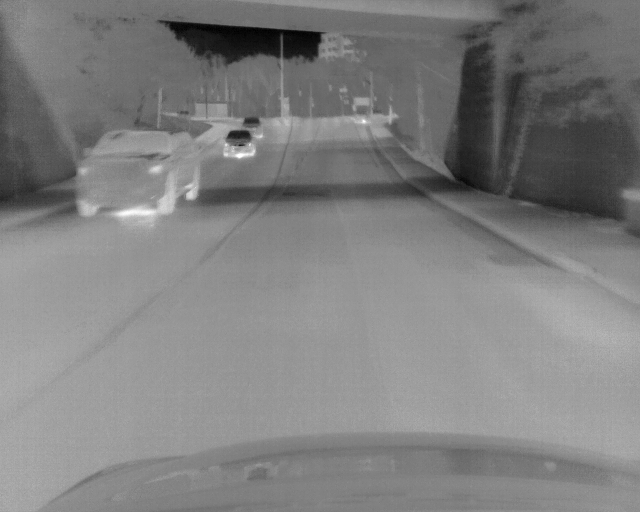car: (74, 128, 201, 221), (222, 129, 256, 159), (241, 115, 264, 135)
